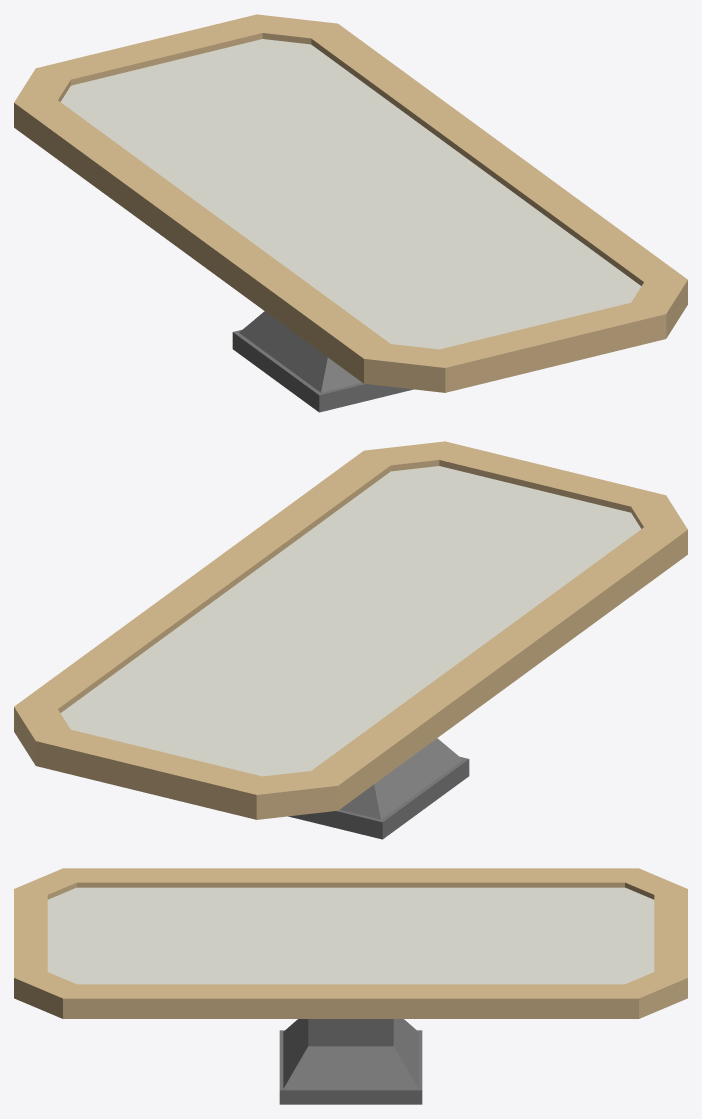
The model's file is Table 1.fbx.
3 views of the same model, one above another, from view 1: azimuth 30°, elevation 25°; view 2: azimuth 150°, elevation 25°; view 3: azimuth 270°, elevation 25° (orthographic). The views are drawn at different scales.
Visible parts, largest first — view 1: Table; view 2: Table; view 3: Table.
Part boxes in pixels (x1,y1,x2,y2): Table: [14, 14, 687, 412]; Table: [14, 441, 687, 839]; Table: [14, 868, 687, 1104].
Bounding box in the file's own units: 647 × 327 × 1415.
